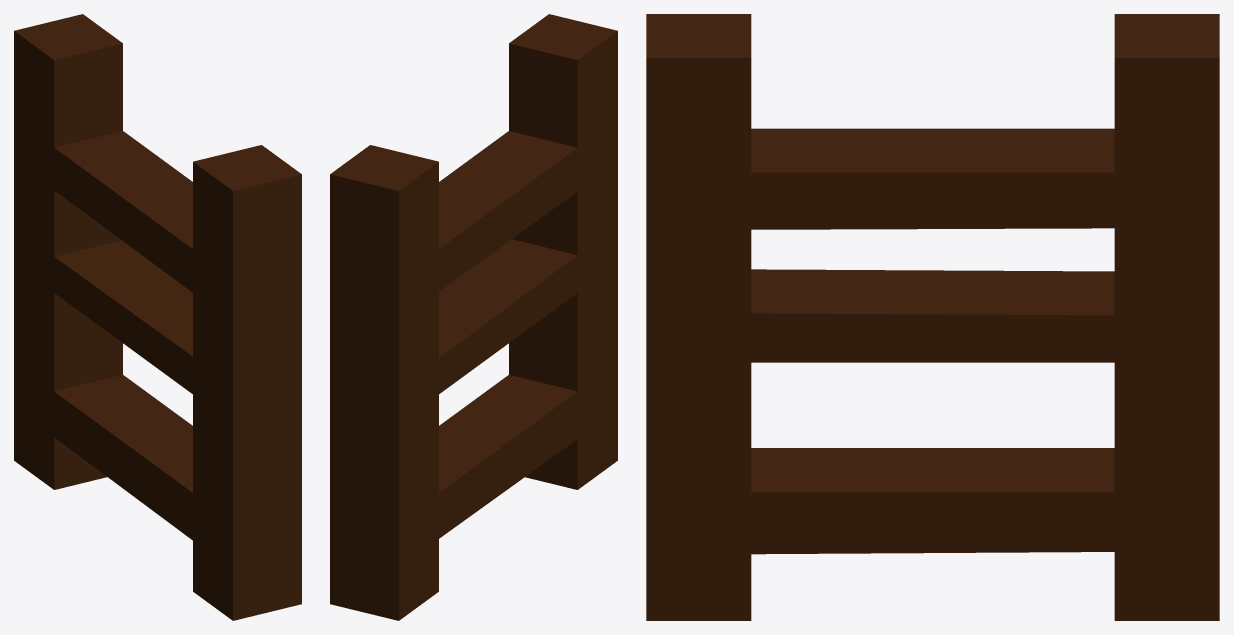
File: Fence.fbx
3 views of the same model, side by side, from view 1: azimuth 30°, elevation 25°; view 2: azimuth 150°, elevation 25°; view 3: azimuth 270°, elevation 25° (orthographic). The views are drawn at different scales.
Visible parts, largest first — view 1: Fence; view 2: Fence; view 3: Fence.
Boxes of the visible parts, left/top/right/bottom form: Fence: left=14, top=14, right=301, bottom=620; Fence: left=330, top=14, right=617, bottom=620; Fence: left=646, top=14, right=1219, bottom=620.
Size of the model in its own units: 25.1 by 150 by 138.
